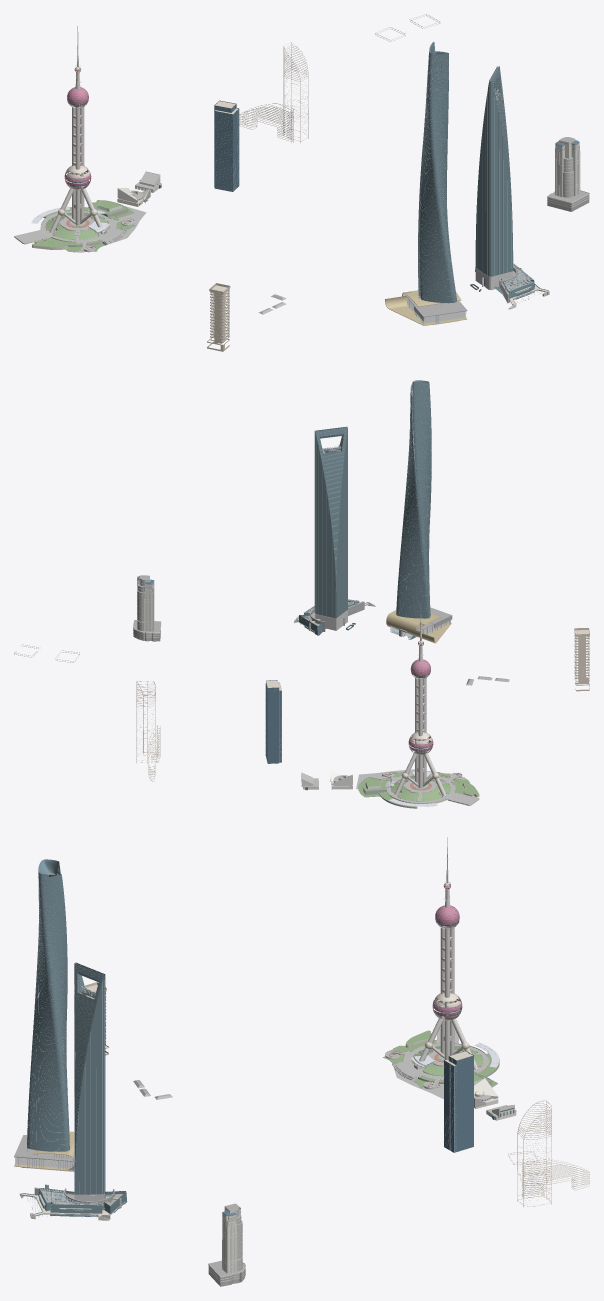
Rendered from lujiazui-1.glb.
The picture shows the model from 3 angles, top to bottom: view 1: azimuth 30°, elevation 25°; view 2: azimuth 150°, elevation 25°; view 3: azimuth 270°, elevation 25°; orthographic projection. The views are drawn at different scales.
Parts seen in each view (by area): view 1: source_2123_Mat3d66-1303573-2164-8748_part0, source_2415_Mat3d66-1303573-2171-3238_part0, source_2038_Mat3d66-1303573-2051-9833_part0, source_1975_Mat3d66-1303573-2170-3213_part0, source_1950_混凝土_part0, source_2456_Mat3d66-1303573-2110-2540_part0, source_1951_草_part0, source_2122_Mat3d66-1303573-2119-613_part0, source_1956_陆家嘴中心-王-阶梯_part0, source_2116_Mat3d66-1303573-116-7821_part0, source_2119_Mat3d66-1303573-2043-4881_part0, source_1958_陆家嘴中心-王-墙面01_part0 (+5 smaller); view 2: source_2123_Mat3d66-1303573-2164-8748_part0, source_2415_Mat3d66-1303573-2171-3238_part0, source_2038_Mat3d66-1303573-2051-9833_part0, source_2456_Mat3d66-1303573-2110-2540_part0, source_1950_混凝土_part0, source_1951_草_part0, source_1975_Mat3d66-1303573-2170-3213_part0, source_2122_Mat3d66-1303573-2119-613_part0, source_2119_Mat3d66-1303573-2043-4881_part0, source_1956_陆家嘴中心-王-阶梯_part0, source_1958_陆家嘴中心-王-墙面01_part0; view 3: source_2123_Mat3d66-1303573-2164-8748_part0, source_2415_Mat3d66-1303573-2171-3238_part0, source_2038_Mat3d66-1303573-2051-9833_part0, source_1975_Mat3d66-1303573-2170-3213_part0, source_1950_混凝土_part0, source_2456_Mat3d66-1303573-2110-2540_part0, source_2122_Mat3d66-1303573-2119-613_part0, source_2421_Mat3d66-1303573-2120-8235_part0, source_1951_草_part0, source_1956_陆家嘴中心-王-阶梯_part0, source_1961_Mat3d66-1303573-2121-3957_part0, source_1932_Mat3d66-1303573-2165-1405_part0 (+4 smaller).
Boxes of the visible parts, bbox=[...] form: source_2123_Mat3d66-1303573-2164-8748_part0: bbox=[418, 42, 456, 303]; source_2415_Mat3d66-1303573-2171-3238_part0: bbox=[470, 66, 512, 291]; source_2038_Mat3d66-1303573-2051-9833_part0: bbox=[207, 14, 440, 351]; source_1975_Mat3d66-1303573-2170-3213_part0: bbox=[214, 100, 239, 191]; source_1950_混凝土_part0: bbox=[49, 46, 104, 233]; source_2456_Mat3d66-1303573-2110-2540_part0: bbox=[477, 66, 513, 275]; source_1951_草_part0: bbox=[32, 200, 135, 251]; source_2122_Mat3d66-1303573-2119-613_part0: bbox=[406, 51, 464, 324]; source_1956_陆家嘴中心-王-阶梯_part0: bbox=[15, 211, 125, 245]; source_2116_Mat3d66-1303573-116-7821_part0: bbox=[547, 139, 589, 207]; source_2119_Mat3d66-1303573-2043-4881_part0: bbox=[385, 290, 467, 325]; source_1958_陆家嘴中心-王-墙面01_part0: bbox=[14, 210, 134, 252]; source_2123_Mat3d66-1303573-2164-8748_part0: bbox=[390, 380, 431, 639]; source_2415_Mat3d66-1303573-2171-3238_part0: bbox=[314, 426, 355, 630]; source_2038_Mat3d66-1303573-2051-9833_part0: bbox=[14, 627, 589, 781]; source_2456_Mat3d66-1303573-2110-2540_part0: bbox=[315, 428, 347, 617]; source_1950_混凝土_part0: bbox=[394, 621, 446, 795]; source_1951_草_part0: bbox=[358, 772, 478, 806]; source_1975_Mat3d66-1303573-2170-3213_part0: bbox=[265, 680, 281, 763]; source_2122_Mat3d66-1303573-2119-613_part0: bbox=[390, 383, 450, 637]; source_2119_Mat3d66-1303573-2043-4881_part0: bbox=[386, 610, 451, 643]; source_1956_陆家嘴中心-王-阶梯_part0: bbox=[386, 771, 478, 804]; source_1958_陆家嘴中心-王-墙面01_part0: bbox=[382, 771, 479, 805]; source_2123_Mat3d66-1303573-2164-8748_part0: bbox=[22, 859, 74, 1170]; source_2415_Mat3d66-1303573-2171-3238_part0: bbox=[74, 962, 105, 1194]; source_2038_Mat3d66-1303573-2051-9833_part0: bbox=[84, 982, 589, 1207]; source_1975_Mat3d66-1303573-2170-3213_part0: bbox=[444, 1051, 473, 1152]; source_1950_混凝土_part0: bbox=[416, 859, 478, 1069]; source_2456_Mat3d66-1303573-2110-2540_part0: bbox=[74, 963, 103, 1194]; source_2122_Mat3d66-1303573-2119-613_part0: bbox=[15, 868, 73, 1171]; source_2421_Mat3d66-1303573-2120-8235_part0: bbox=[22, 1188, 126, 1216]; source_1951_草_part0: bbox=[383, 1030, 499, 1087]; source_1956_陆家嘴中心-王-阶梯_part0: bbox=[393, 1028, 488, 1081]; source_1961_Mat3d66-1303573-2121-3957_part0: bbox=[432, 884, 462, 1016]; source_1932_Mat3d66-1303573-2165-1405_part0: bbox=[387, 858, 499, 1087].
Size of the model in its own units: 1152 by 636 by 1096.
